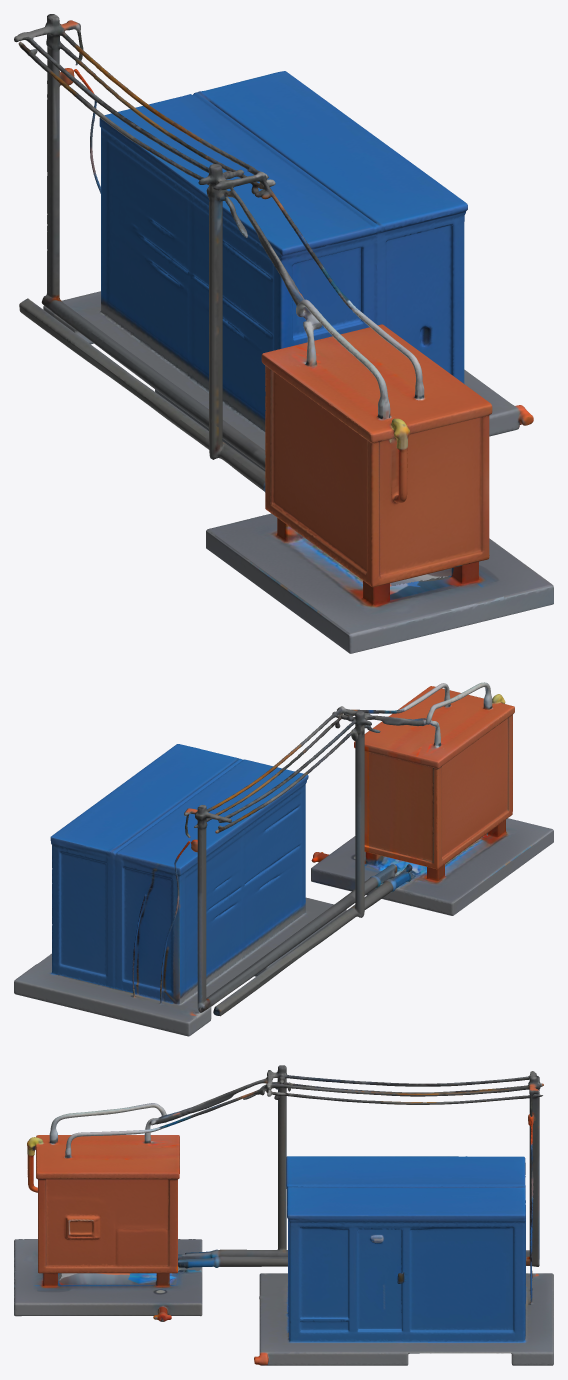
The model's file is tesla_mp2xl_bess_unit.glb.
3 views of the same model, one above another, from view 1: azimuth 30°, elevation 25°; view 2: azimuth 150°, elevation 25°; view 3: azimuth 270°, elevation 25° (orthographic). The views are drawn at different scales.
Parts seen in each view (by area): view 1: ECIEPCS; view 2: ECIEPCS; view 3: ECIEPCS.
Boxes of the visible parts, x1,y1,x2,y2 form: ECIEPCS: (14,14,553,653); ECIEPCS: (14,682,553,1036); ECIEPCS: (14,1065,553,1365).
Size of the model in its own units: 0.5141 by 0.4266 by 1.
1 material, 1 textured.
